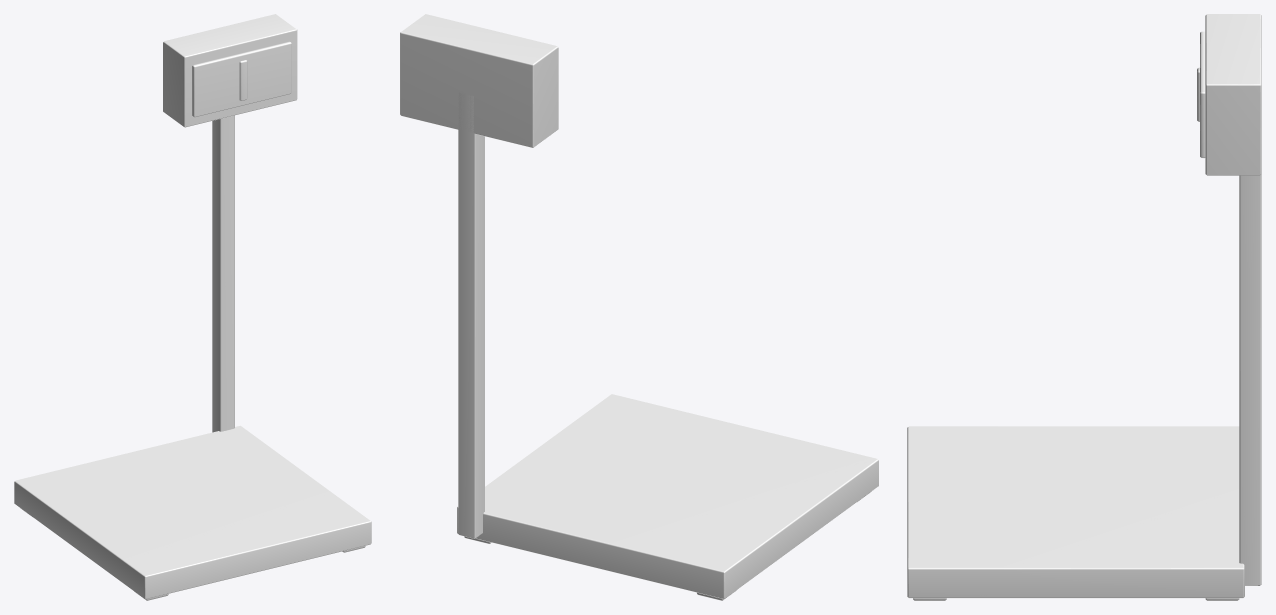
Rendered from floor_scale.glb.
3 views of the same model, side by side, from view 1: azimuth 30°, elevation 25°; view 2: azimuth 150°, elevation 25°; view 3: azimuth 270°, elevation 25° (orthographic). The views are drawn at different scales.
Visible parts, largest first — view 1: FloorScale; view 2: FloorScale; view 3: FloorScale.
Part boxes in pixels (bbox=[...]): FloorScale: bbox=[14, 14, 371, 600]; FloorScale: bbox=[400, 14, 878, 600]; FloorScale: bbox=[907, 14, 1261, 600].
Size of the model in its own units: 0.71 by 1.07 by 0.63.
Materials: 1 (1 with a texture image).
